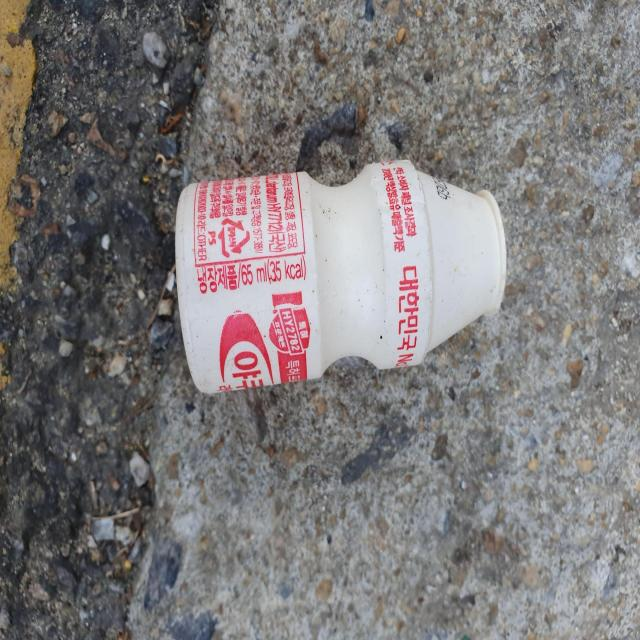plastic: (175, 160, 507, 394)
